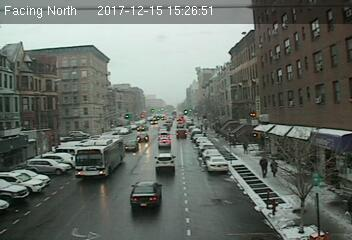bus: (74, 136, 125, 179)
car: (129, 181, 163, 210), (155, 154, 177, 175), (207, 157, 229, 173), (122, 141, 140, 152), (158, 138, 172, 148), (135, 132, 149, 141), (176, 129, 187, 139)
